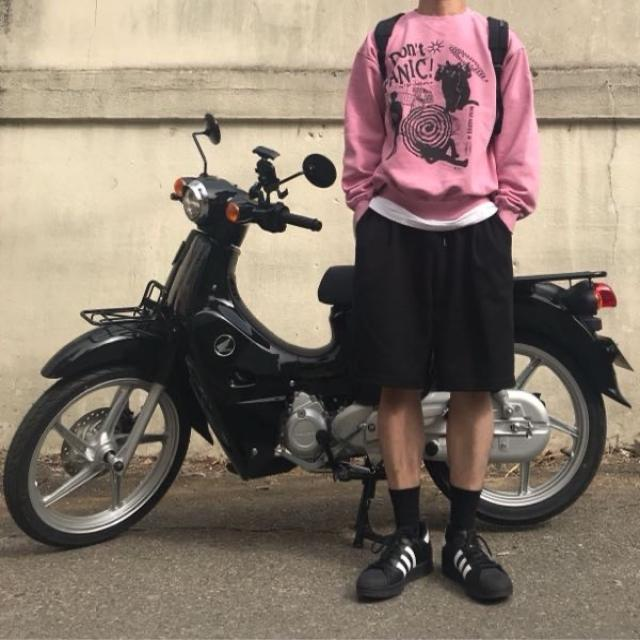mtm: (343, 9, 538, 230)
shortpants: (355, 206, 515, 394)
